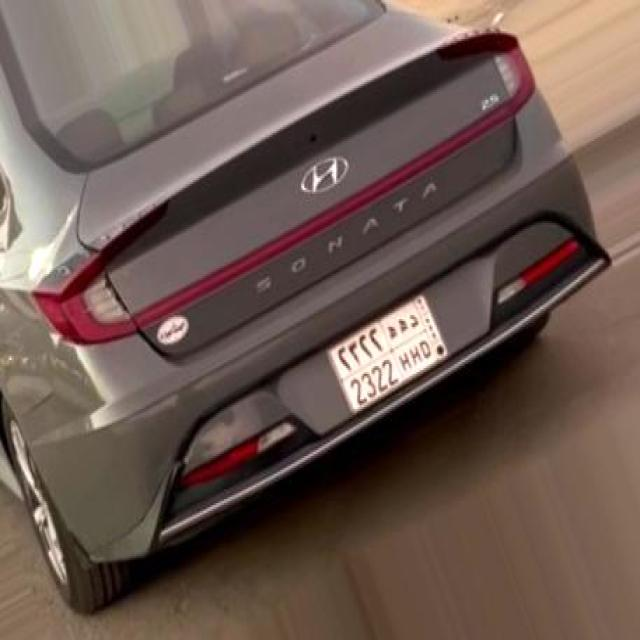Car-plate: (317, 276, 463, 423)
